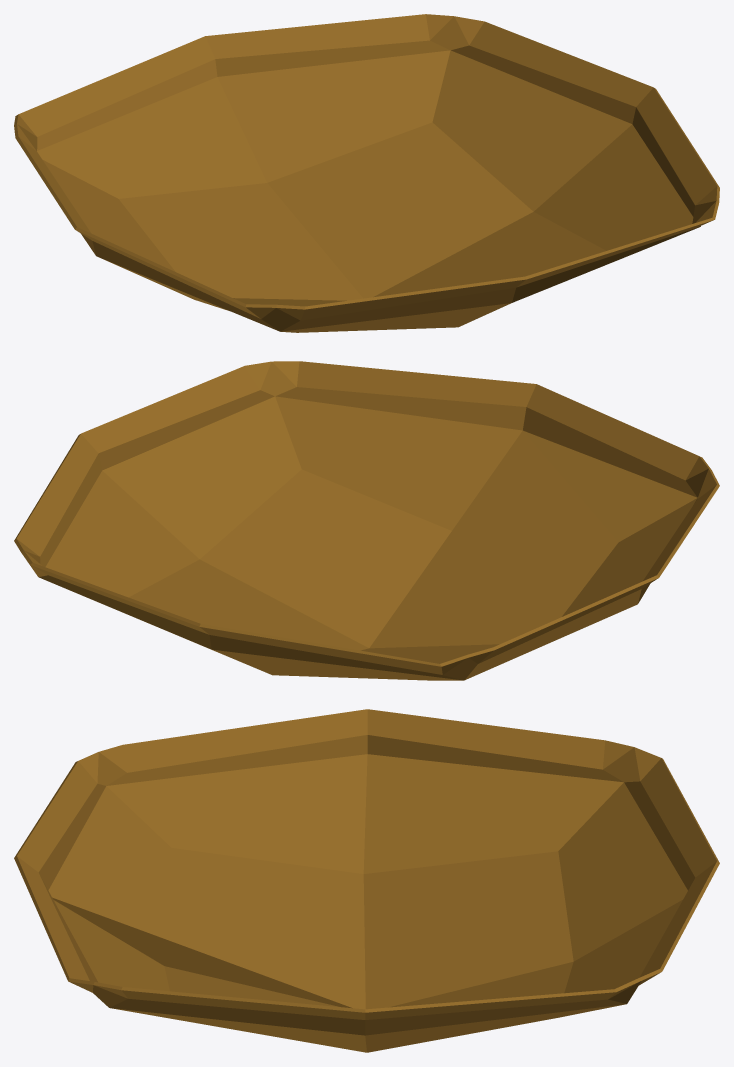
The model's file is Bowl.glb.
3 renders of one model, top to bottom at view 1: azimuth 30°, elevation 25°; view 2: azimuth 150°, elevation 25°; view 3: azimuth 270°, elevation 25°, orthographic. The views are drawn at different scales.
Parts seen in each view (by area): view 1: Plane; view 2: Plane; view 3: Plane.
Part boxes in pixels (x1,y1,x2,y2): Plane: [14, 14, 719, 332]; Plane: [14, 361, 719, 680]; Plane: [14, 709, 719, 1052].
Bounding box in the file's own units: 0.2518 × 0.0613 × 0.2482.
